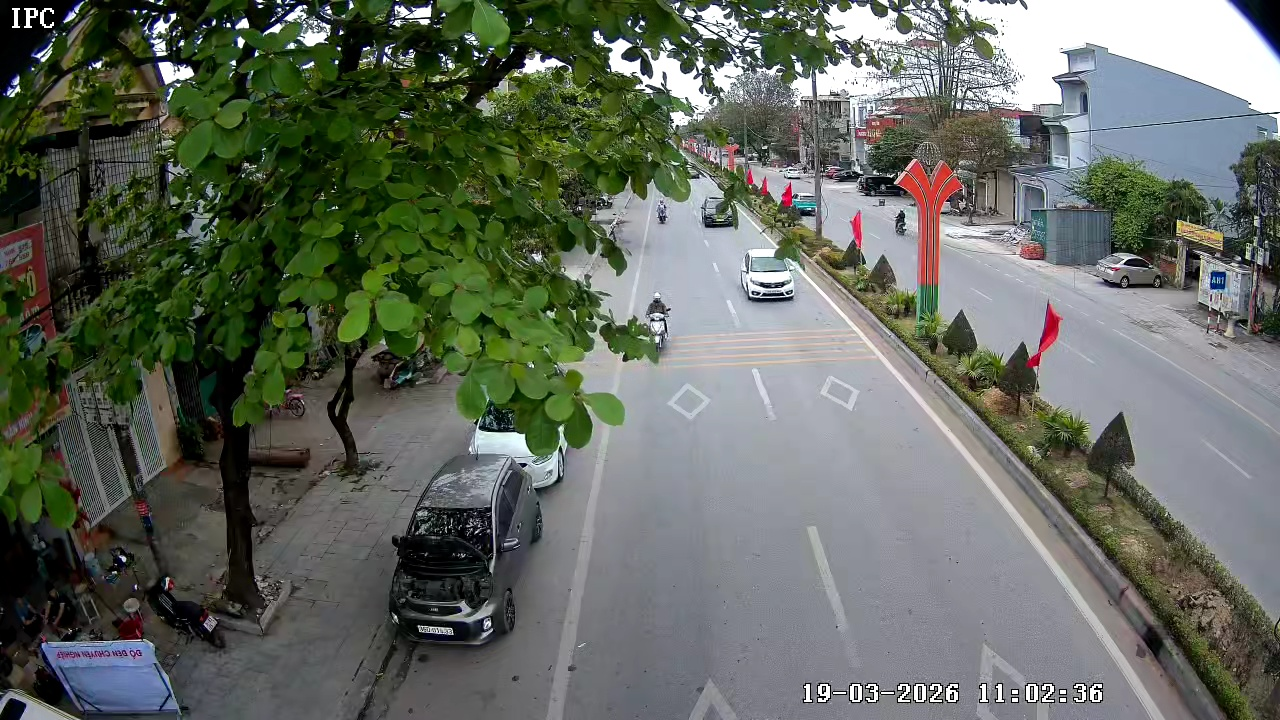car: (388, 452, 545, 646), (469, 401, 568, 492), (737, 247, 798, 303), (700, 191, 739, 229)
motorbike: (645, 291, 673, 360), (654, 194, 670, 226)
pedestrian: (1034, 295, 1064, 375)
